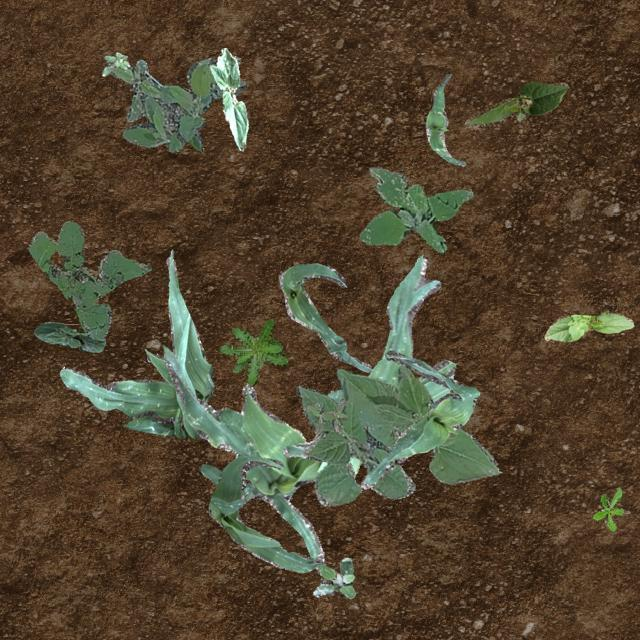crop: (162, 344, 360, 562), (282, 255, 454, 458), (295, 364, 501, 506), (59, 248, 212, 438), (359, 350, 478, 488), (208, 454, 320, 572), (278, 262, 372, 370), (463, 80, 568, 128), (208, 46, 248, 150), (424, 74, 464, 165), (544, 312, 632, 341), (32, 321, 104, 352)
weed: (28, 220, 150, 338), (108, 55, 246, 152), (358, 166, 472, 252), (218, 318, 288, 384), (312, 556, 354, 598), (306, 398, 348, 432), (592, 486, 624, 530), (100, 51, 128, 76)
